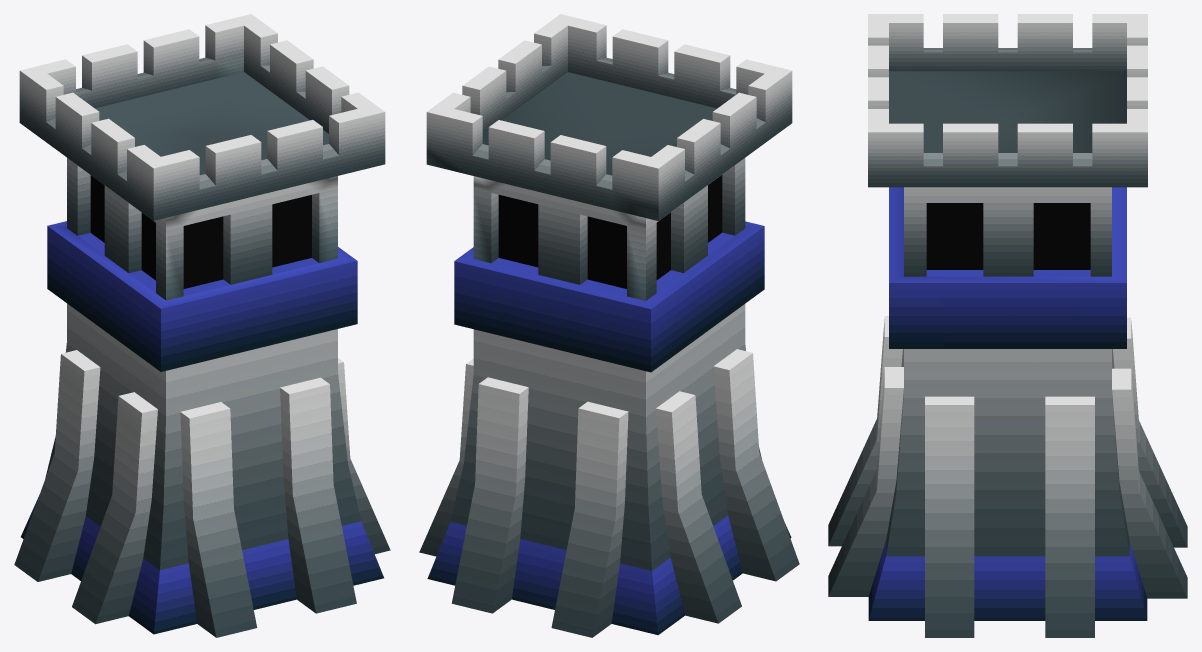
The model's file is tower_lvl4.fbx.
3 views of the same model, side by side, from view 1: azimuth 30°, elevation 25°; view 2: azimuth 150°, elevation 25°; view 3: azimuth 270°, elevation 25° (orthographic). The views are drawn at different scales.
Parts seen in each view (by area): view 1: tower_lvl4; view 2: tower_lvl4; view 3: tower_lvl4.
Boxes of the visible parts, bbox=[...] form: tower_lvl4: bbox=[14, 14, 390, 637]; tower_lvl4: bbox=[419, 14, 799, 637]; tower_lvl4: bbox=[828, 14, 1187, 637].
Size of the model in its own units: 923 by 1384 by 923.
